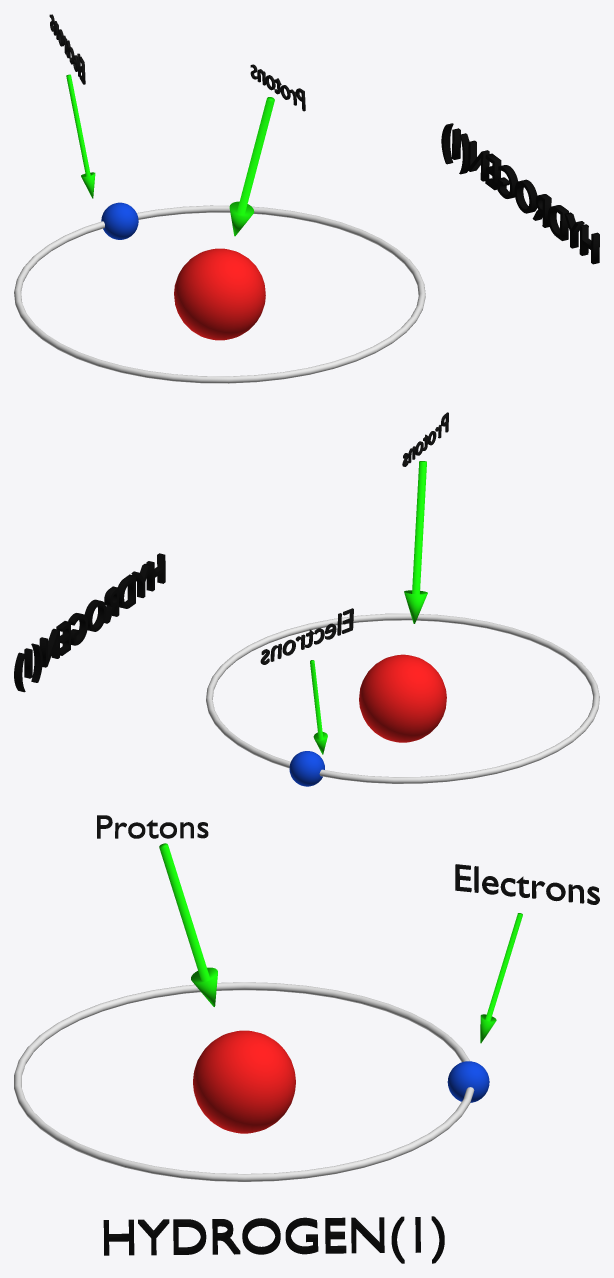
The model's file is Hydrogen Atomic Model.gltf.
3 views of the same model, one above another, from view 1: azimuth 30°, elevation 25°; view 2: azimuth 150°, elevation 25°; view 3: azimuth 270°, elevation 25° (orthographic). The views are drawn at different scales.
Parts seen in each view (by area): view 1: Torus, Sphere, Text.002, Cylinder.000, Sphere.001, Cylinder.003, Text.001, Text; view 2: Torus, Sphere, Text.002, Cylinder.000, Text, Sphere.001, Text.001, Cylinder.003; view 3: Torus, Sphere, Text.002, Cylinder.000, Text, Sphere.001, Text.001, Cylinder.003.
Part boxes in pixels (x1,y1,x2,y2): Torus: (14,205,425,383); Sphere: (174,248,265,340); Text.002: (441,123,599,264); Cylinder.000: (229,97,274,236); Sphere.001: (101,202,138,239); Cylinder.003: (66,74,95,198); Text.001: (250,64,305,111); Text: (49,14,85,84); Torus: (206,613,599,783); Sphere: (359,654,446,742); Text.002: (14,553,165,692); Cylinder.000: (404,461,427,623); Text: (260,608,353,664); Sphere.001: (289,751,324,786); Text.001: (402,412,448,466); Cylinder.003: (310,660,327,754); Torus: (14,982,474,1181); Sphere: (193,1030,295,1133); Text.002: (103,1216,444,1263); Cylinder.000: (159,843,217,1006); Text: (455,864,599,904); Sphere.001: (447,1061,489,1102); Text.001: (97,815,208,838); Cylinder.003: (480,913,522,1043).
Size of the model in its own units: 4.71 by 2.62 by 4.3.
